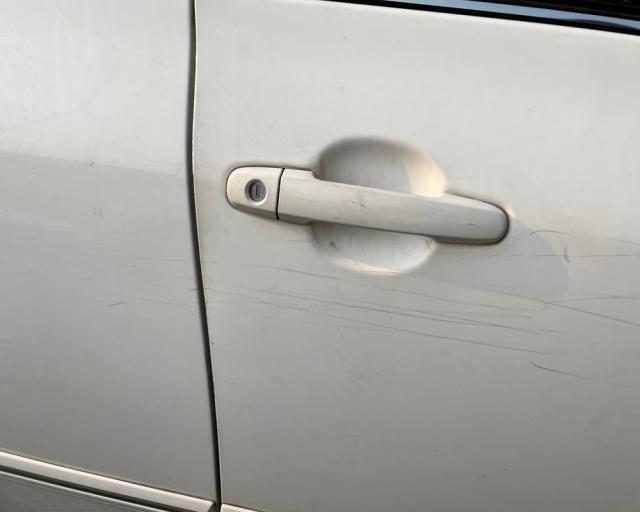scratch: (240, 223, 640, 394)
